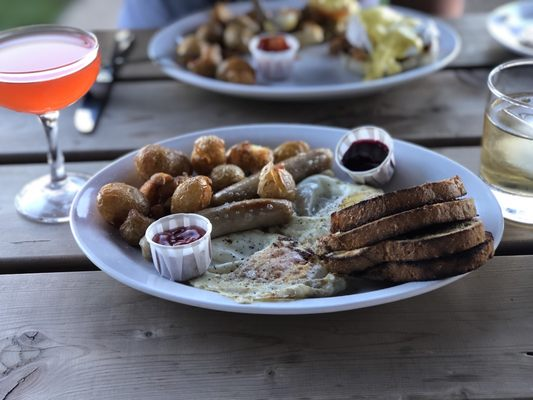pizza: (480, 58, 533, 197), (142, 213, 213, 283)
soup: (319, 177, 496, 284)
